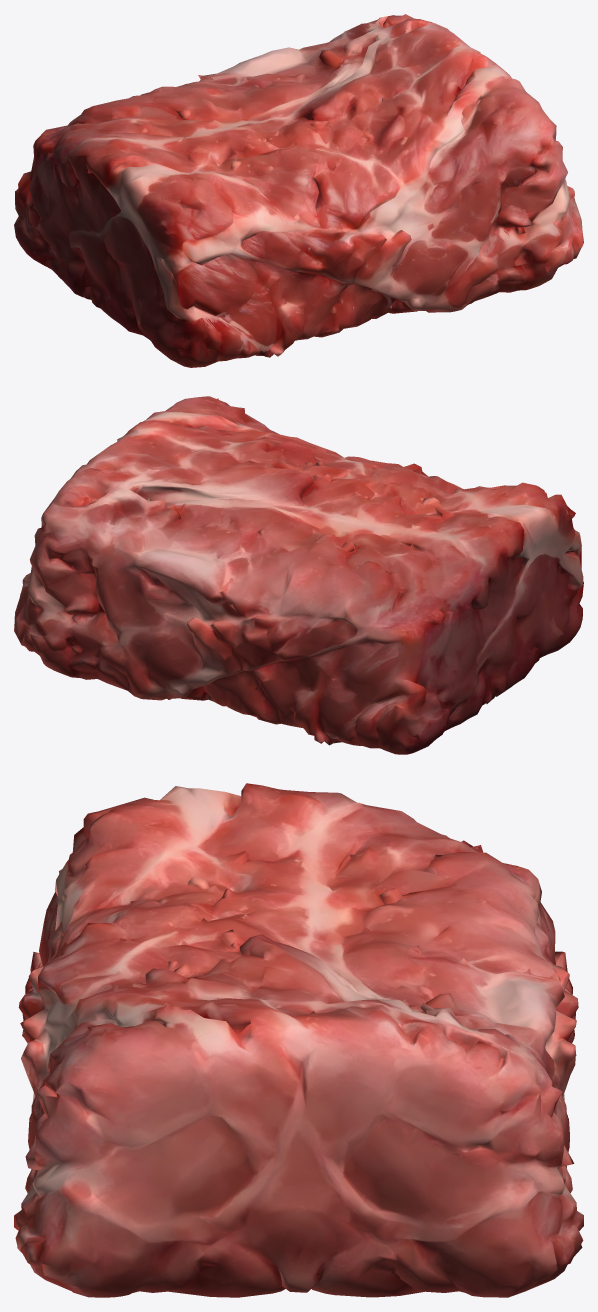
File: meat_block.glb
3 renders of one model, top to bottom at view 1: azimuth 30°, elevation 25°; view 2: azimuth 150°, elevation 25°; view 3: azimuth 270°, elevation 25°, orthographic. The views are drawn at different scales.
Parts seen in each view (by area): view 1: meat_block / mesh; view 2: meat_block / mesh; view 3: meat_block / mesh.
Boxes of the visible parts, x1,y1,x2,y2 form: meat_block / mesh: (14, 14, 583, 367); meat_block / mesh: (14, 396, 583, 754); meat_block / mesh: (14, 783, 583, 1297).
Size of the model in its own units: 0.28 by 0.1211 by 0.2221.
1 material, 1 textured.
